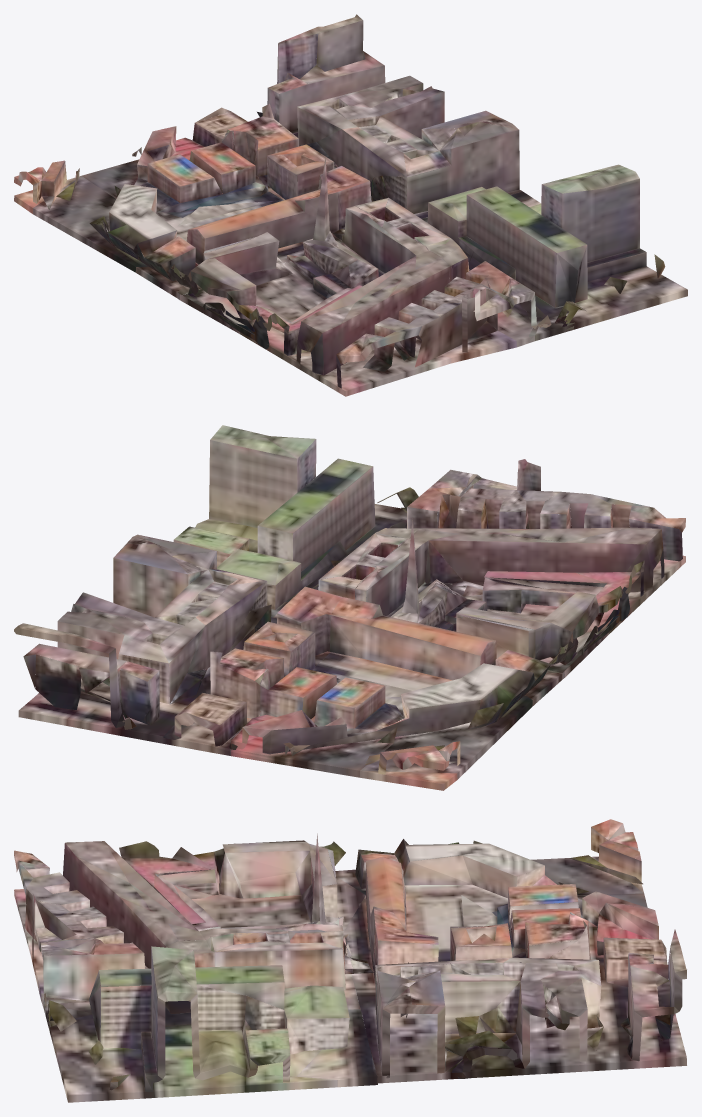
3 renders of one model, top to bottom at view 1: azimuth 30°, elevation 25°; view 2: azimuth 150°, elevation 25°; view 3: azimuth 270°, elevation 25°, orthographic. The views are drawn at different scales.
Visible parts, largest first — view 1: Mesh_0; view 2: Mesh_0; view 3: Mesh_0.
Boxes of the visible parts, x1=… form: Mesh_0: x1=14, y1=14, x2=687, y2=396; Mesh_0: x1=14, y1=425, x2=685, y2=790; Mesh_0: x1=14, y1=819, x2=686, y2=1102.
Size of the model in its own units: 266 by 78.14 by 330.
Materials: 2 (2 with a texture image).
